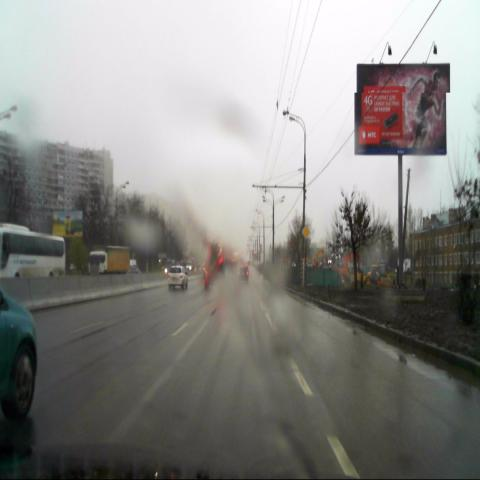2_1: (302, 225, 310, 239)
